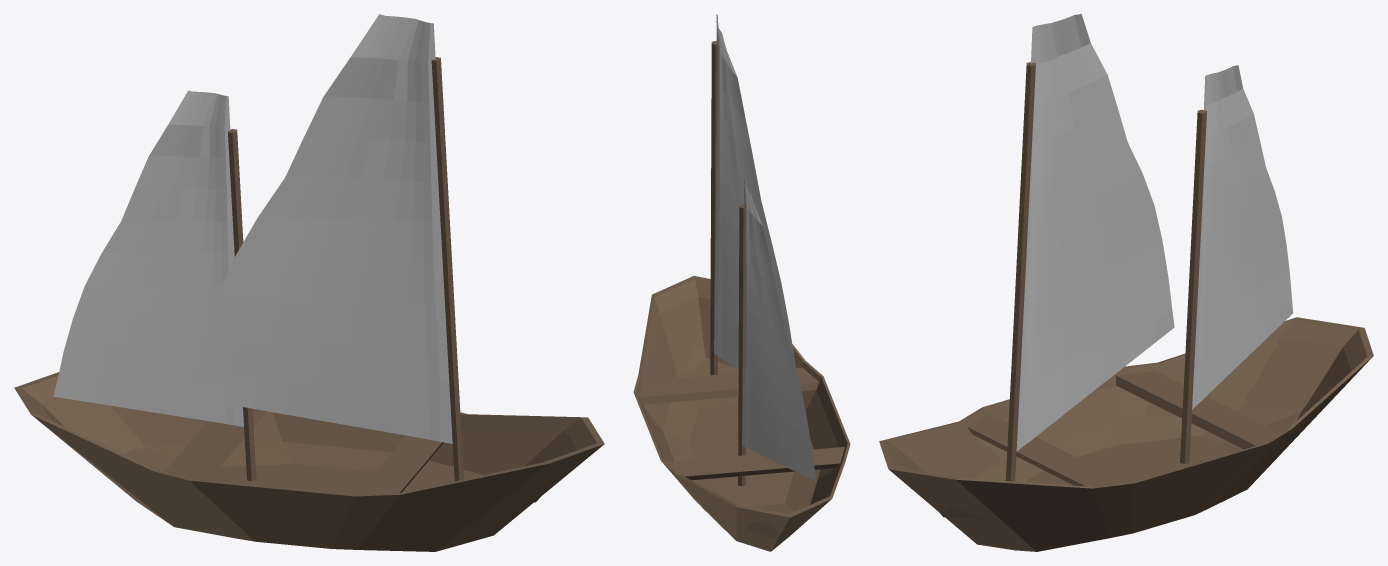
The model's file is Extraboat.fbx.
3 renders of one model, left to right at view 1: azimuth 30°, elevation 25°; view 2: azimuth 150°, elevation 25°; view 3: azimuth 270°, elevation 25°, orthographic. The views are drawn at different scales.
Parts seen in each view (by area): view 1: yelkenli_pPlane2; view 2: yelkenli_pPlane2; view 3: yelkenli_pPlane2.
Part boxes in pixels (x1,y1,x2,y2): yelkenli_pPlane2: (14,14,604,551); yelkenli_pPlane2: (633,14,850,551); yelkenli_pPlane2: (879,14,1373,551).
Bounding box in the file's own units: 1.7 × 2.24 × 1.87.
